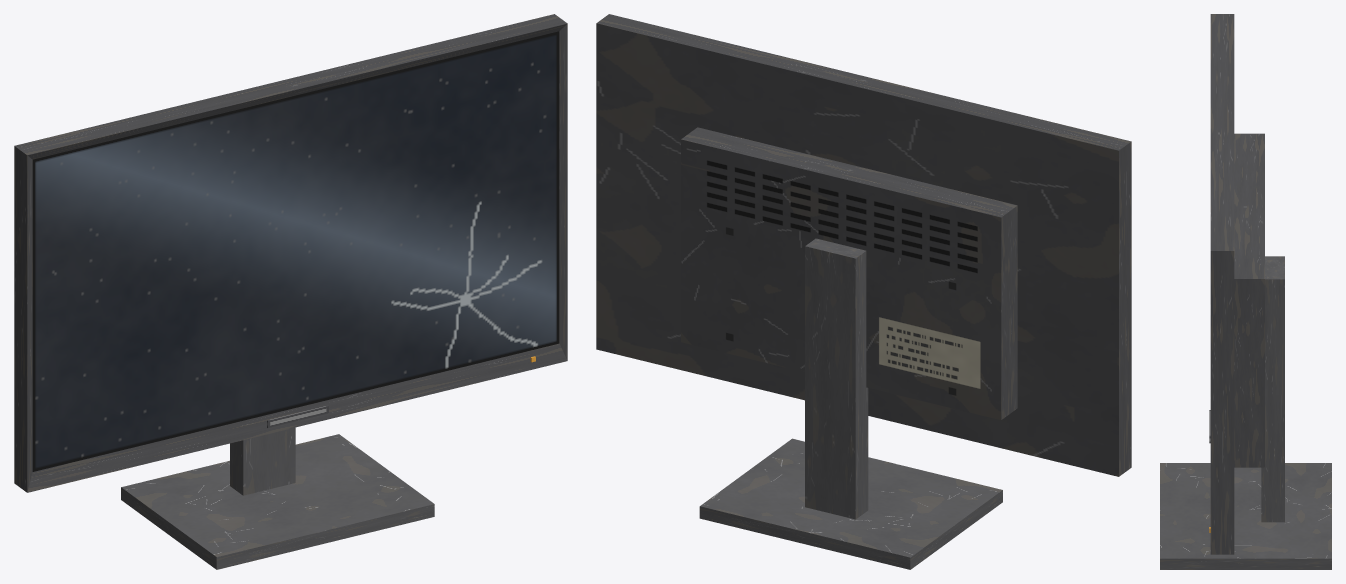
The model's file is Monitor27.fbx.
The picture shows the model from 3 angles, left to right: view 1: azimuth 30°, elevation 25°; view 2: azimuth 150°, elevation 25°; view 3: azimuth 270°, elevation 25°; orthographic projection. The views are drawn at different scales.
Parts seen in each view (by area): view 1: Monitor27; view 2: Monitor27; view 3: Monitor27.
Part boxes in pixels (<box>): Monitor27: <box>14,14,567,569</box>; Monitor27: <box>596,14,1131,569</box>; Monitor27: <box>1160,14,1331,569</box>.
Size of the model in its own units: 0.62 by 0.475 by 0.19.
